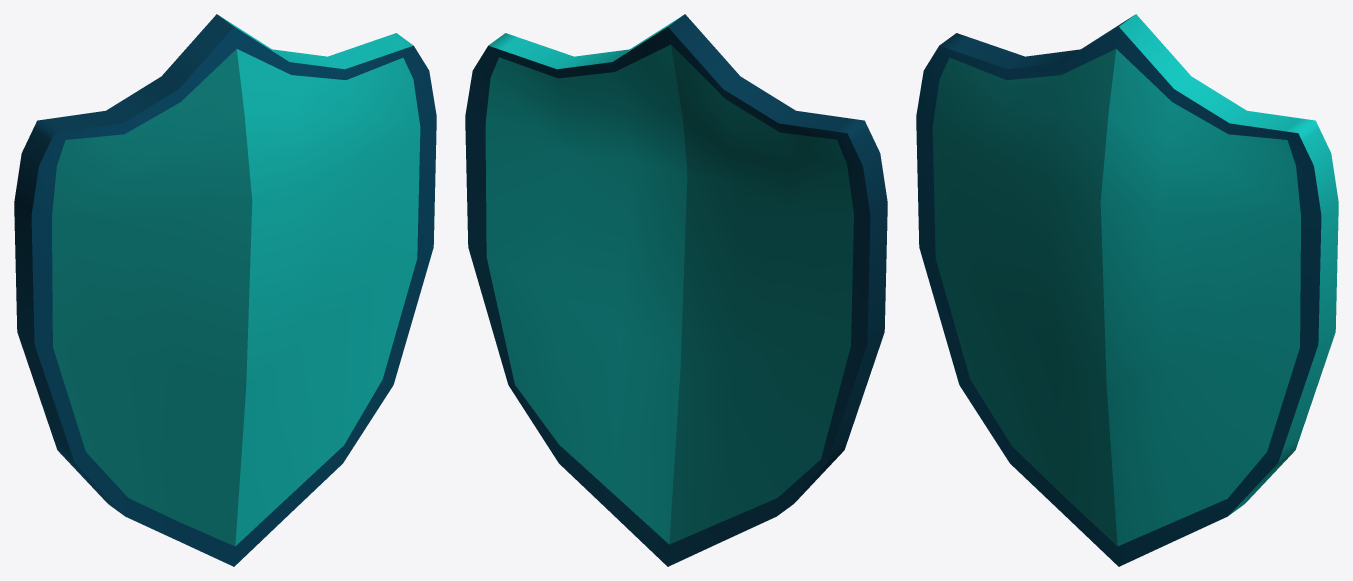
File: Shield.fbx
The picture shows the model from 3 angles, left to right: view 1: azimuth 30°, elevation 25°; view 2: azimuth 150°, elevation 25°; view 3: azimuth 330°, elevation 25°; orthographic projection.
Visible parts, largest first — view 1: Shield v3; view 2: Shield v3; view 3: Shield v3.
Part boxes in pixels (x1,y1,x2,y2): Shield v3: [14, 14, 436, 566]; Shield v3: [465, 14, 887, 566]; Shield v3: [916, 14, 1338, 566].
Size of the model in its own units: 198 by 252 by 29.96.
